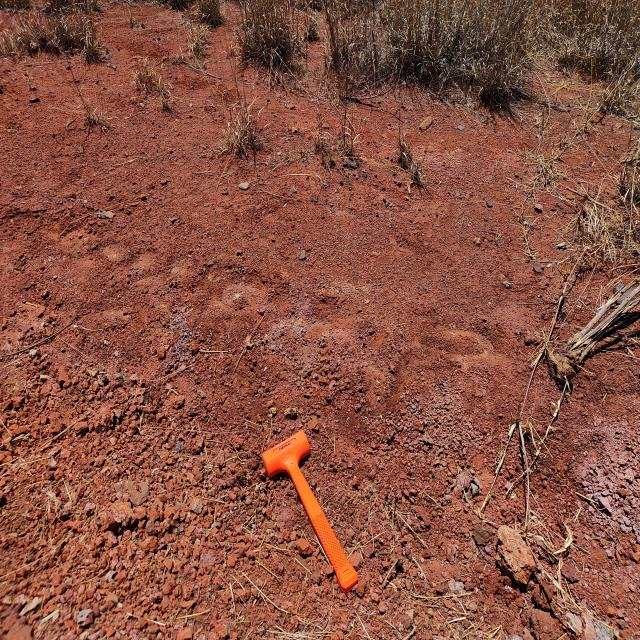Orange_hammer: (260, 429, 359, 592)
